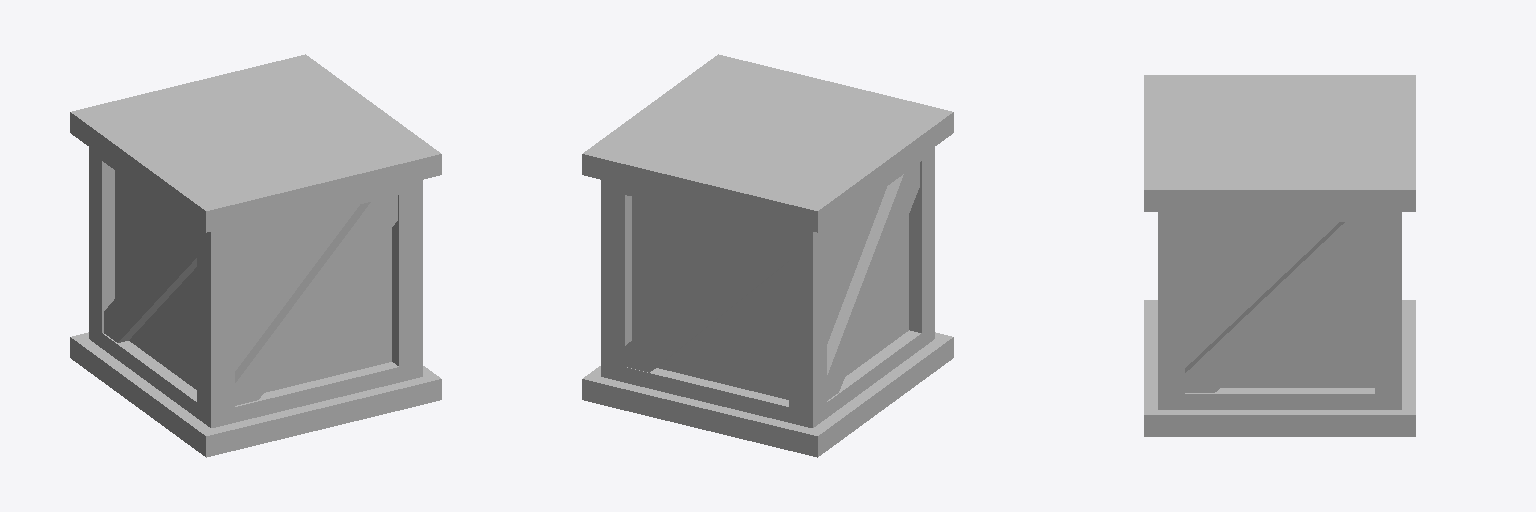
The model's file is crate_2_offset.obj.
3 renders of one model, left to right at view 1: azimuth 30°, elevation 25°; view 2: azimuth 150°, elevation 25°; view 3: azimuth 270°, elevation 25°, orthographic.
Parts seen in each view (by area): view 1: Crate_2.Offset_Cube.046; view 2: Crate_2.Offset_Cube.046; view 3: Crate_2.Offset_Cube.046.
Boxes of the visible parts, x1,y1,x2,y2 form: Crate_2.Offset_Cube.046: [70, 54, 441, 457]; Crate_2.Offset_Cube.046: [582, 54, 953, 457]; Crate_2.Offset_Cube.046: [1144, 75, 1415, 436].
Size of the model in its own units: 1 by 0.9987 by 1.